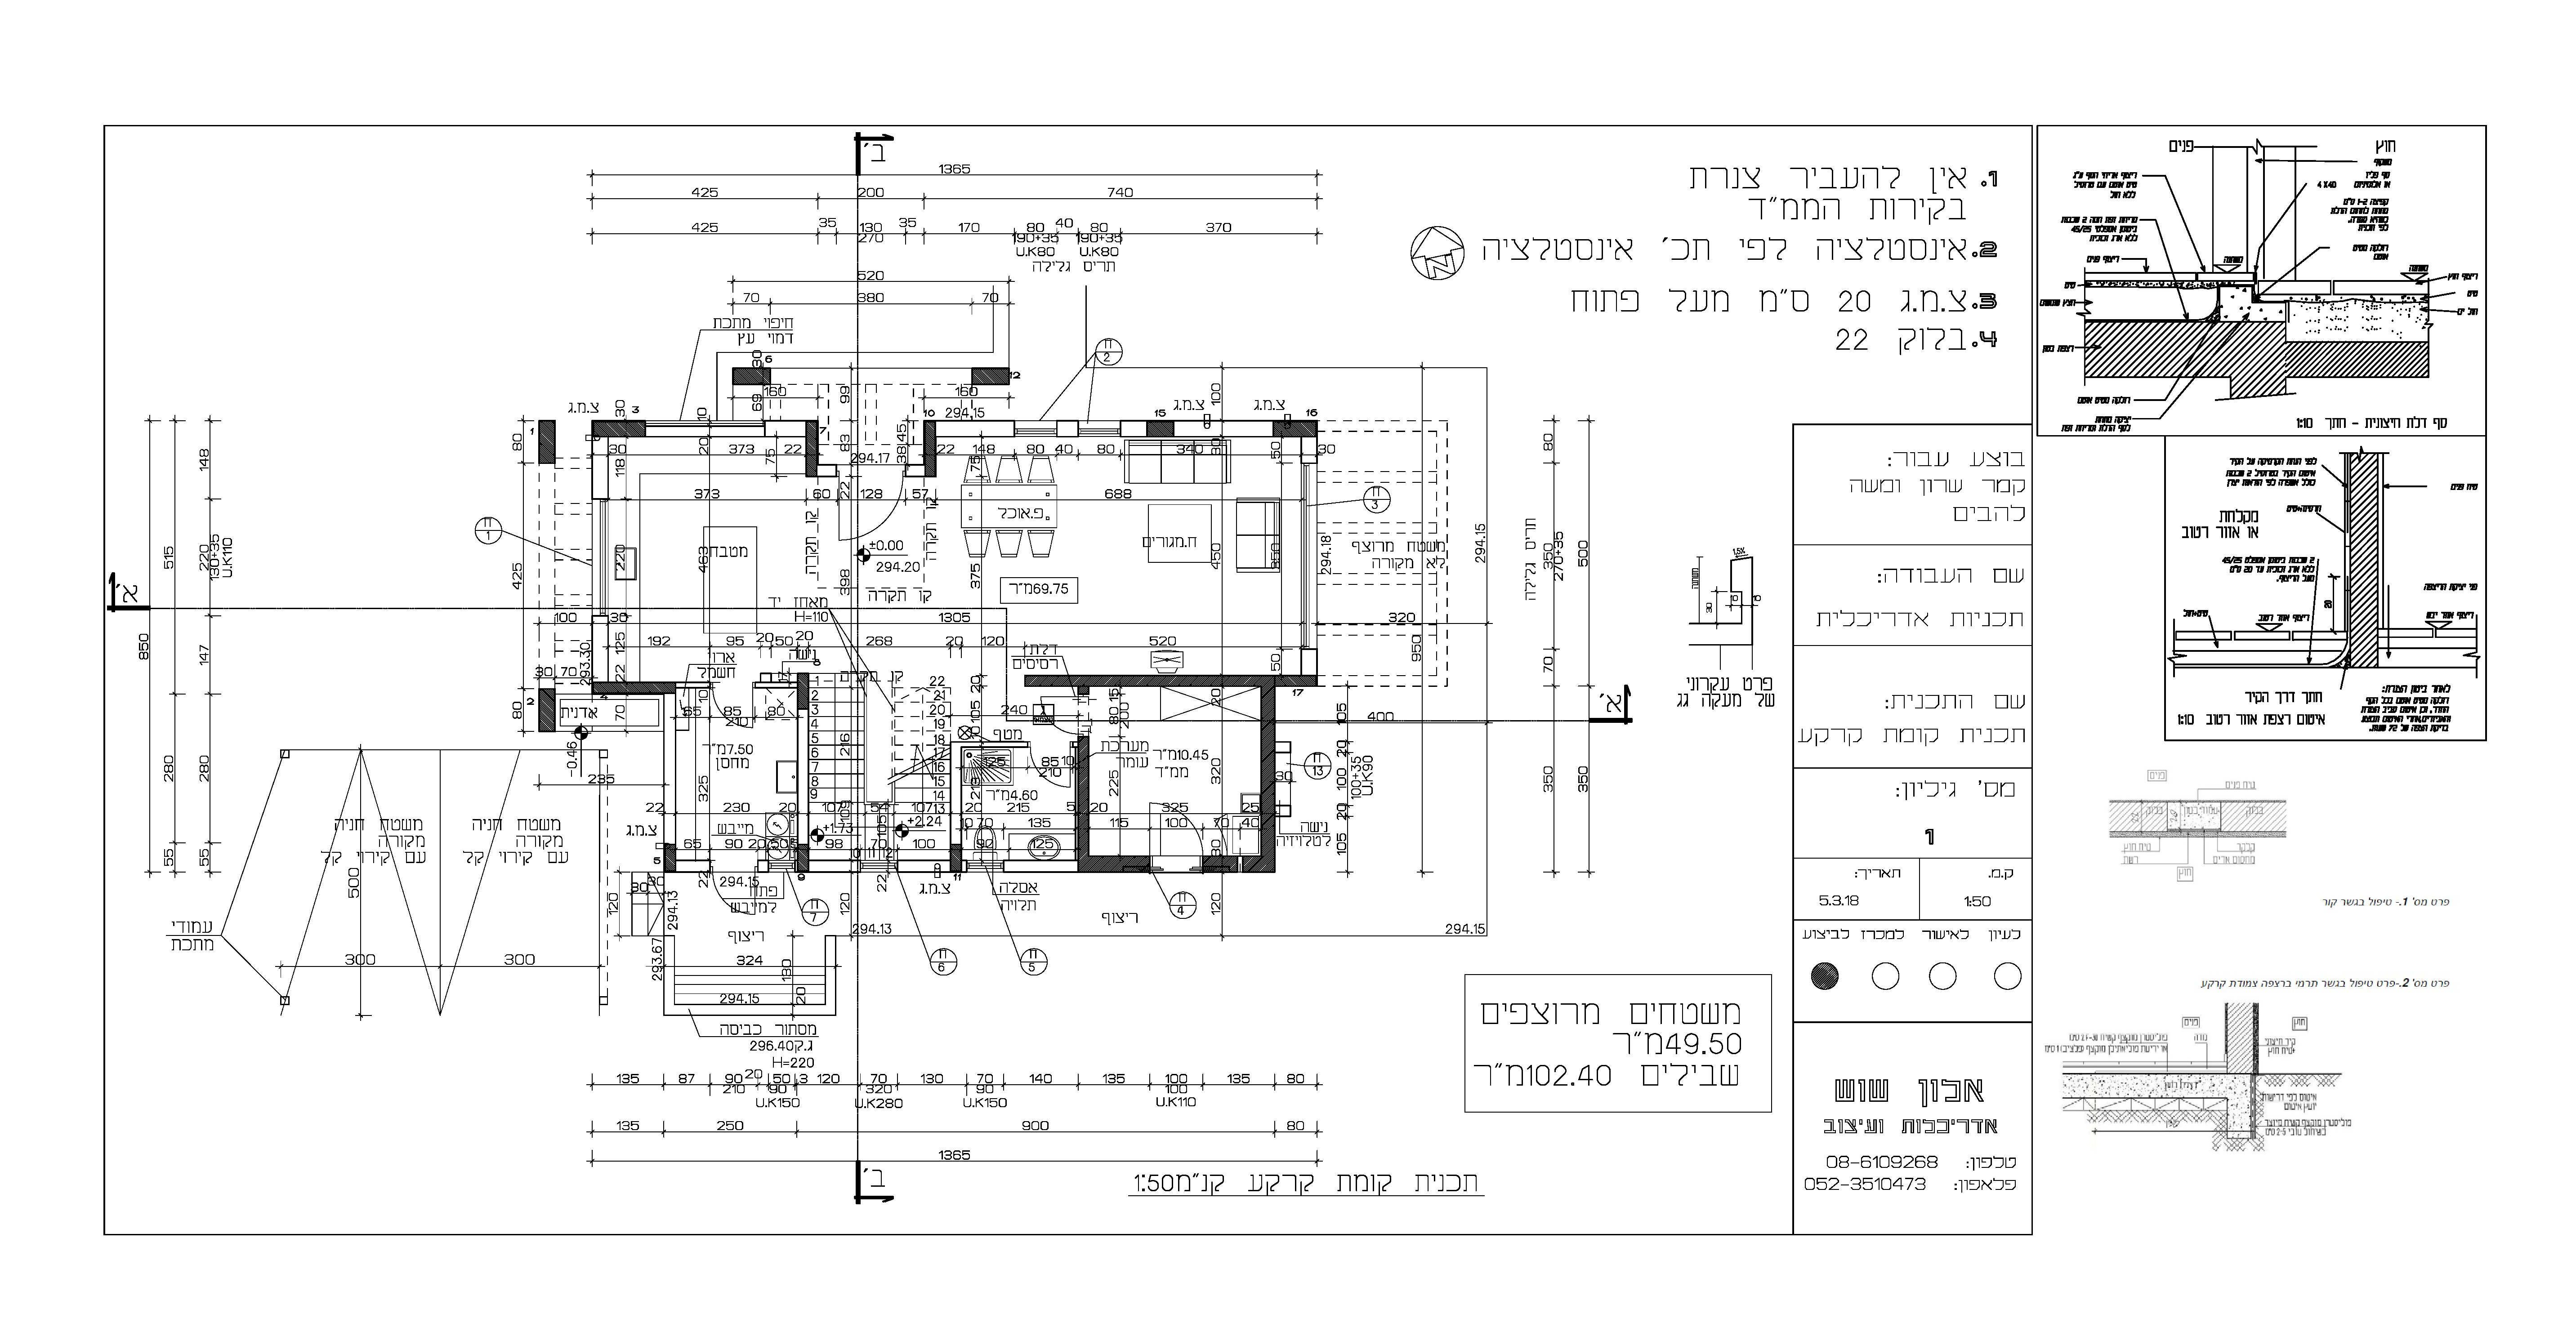door: (294, 509, 315, 528)
wall: (1024, 675, 1317, 686), (1261, 686, 1274, 872), (1078, 736, 1088, 872)
window: (1300, 462, 1317, 650), (645, 420, 765, 438), (592, 499, 609, 614), (1078, 420, 1120, 438), (1014, 420, 1056, 438), (965, 860, 1005, 872), (860, 862, 899, 873)
